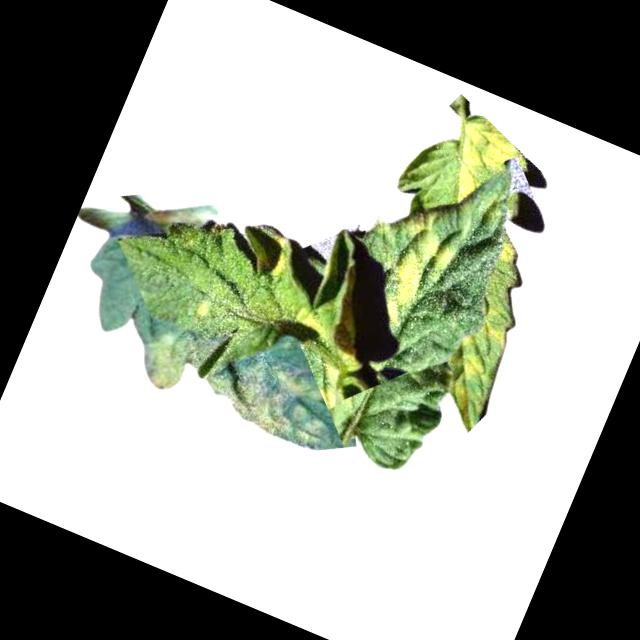Leaf_Mold: (125, 301, 348, 458), (427, 274, 536, 436), (360, 201, 468, 342), (267, 299, 372, 408), (437, 109, 528, 216), (225, 216, 298, 290), (494, 234, 524, 267)
